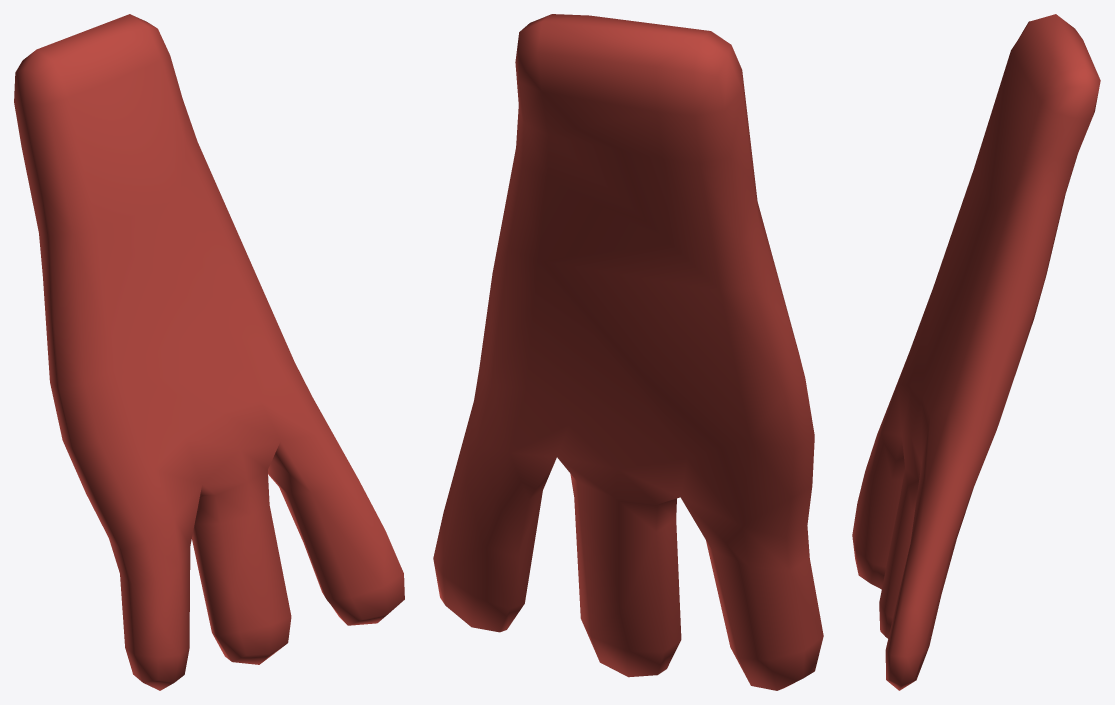
File: musculos-tendon-sheath-of-extensor-digitorum-and-extensor-indicis-l.glb
3 views of the same model, side by side, from view 1: azimuth 30°, elevation 25°; view 2: azimuth 150°, elevation 25°; view 3: azimuth 270°, elevation 25° (orthographic). The views are drawn at different scales.
Visible parts, largest first — view 1: Tendon sheath of extensor digitorum and extensor indicis.l; view 2: Tendon sheath of extensor digitorum and extensor indicis.l; view 3: Tendon sheath of extensor digitorum and extensor indicis.l.
Part boxes in pixels (box(x1,y1,x2,y2)): Tendon sheath of extensor digitorum and extensor indicis.l: box(14, 14, 404, 690); Tendon sheath of extensor digitorum and extensor indicis.l: box(433, 14, 823, 690); Tendon sheath of extensor digitorum and extensor indicis.l: box(852, 14, 1100, 690).
Bounding box in the file's own units: 0.027 × 0.0483 × 0.0192.
